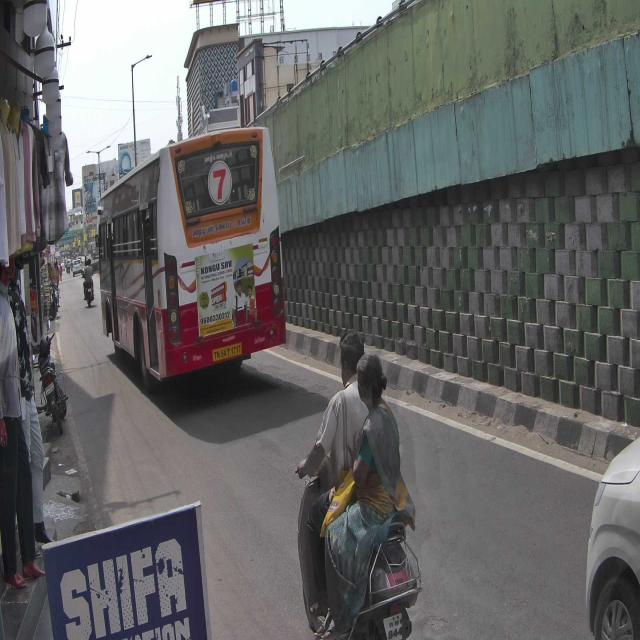double_rider: (296, 326, 422, 640)
